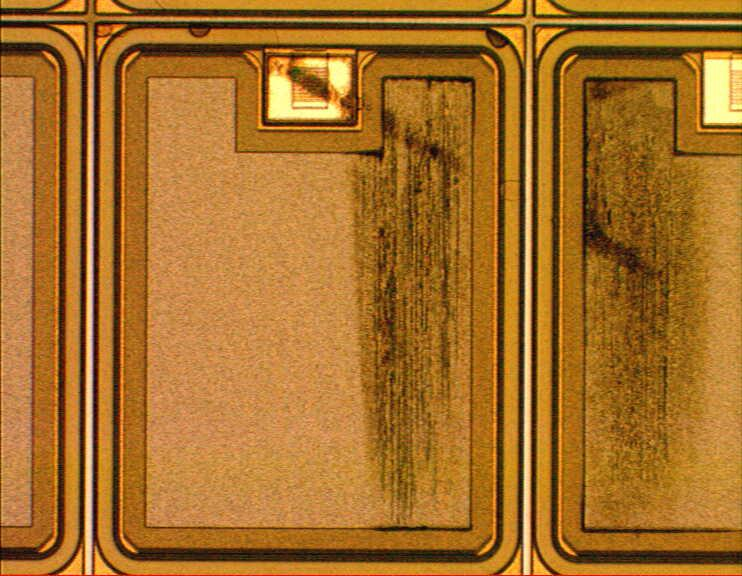SEZ BURNT: (262, 46, 709, 536)
